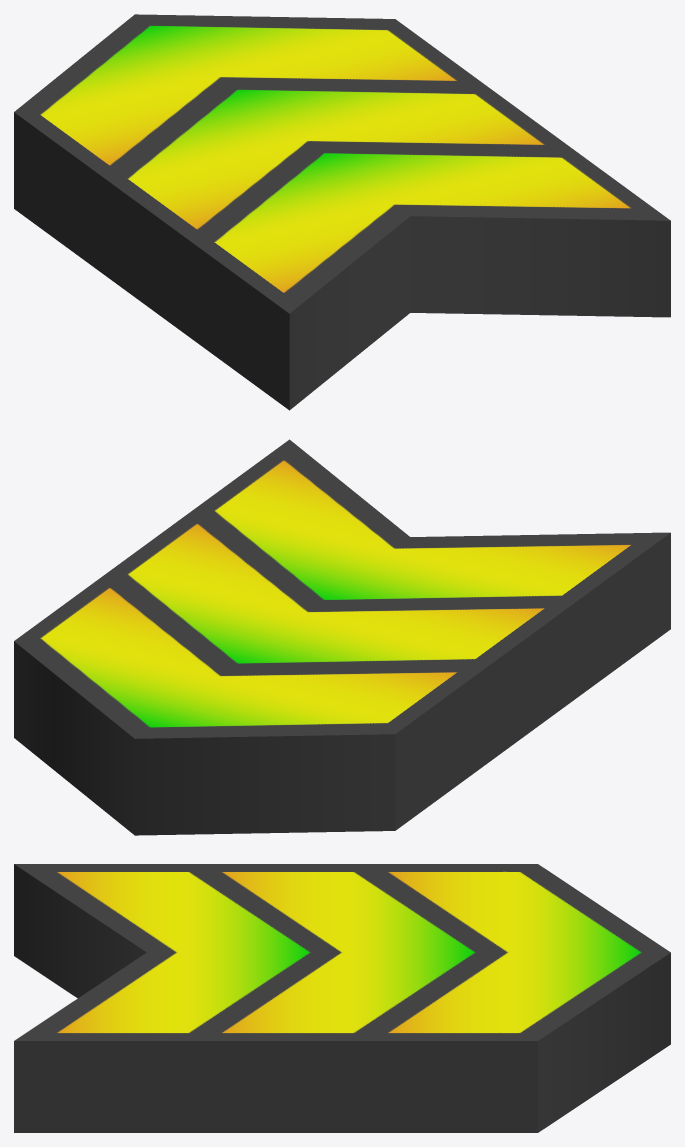
File: turbo.FBX
3 renders of one model, top to bottom at view 1: azimuth 30°, elevation 25°; view 2: azimuth 150°, elevation 25°; view 3: azimuth 270°, elevation 25°, orthographic. The views are drawn at different scales.
Parts seen in each view (by area): view 1: Box001; view 2: Box001; view 3: Box001.
Boxes of the visible parts, left/top/right/bottom form: Box001: left=14, top=14, right=670, bottom=410; Box001: left=14, top=439, right=670, bottom=835; Box001: left=14, top=864, right=670, bottom=1132.
Bounding box in the file's own units: 38.77 × 9.4 × 60.83.
